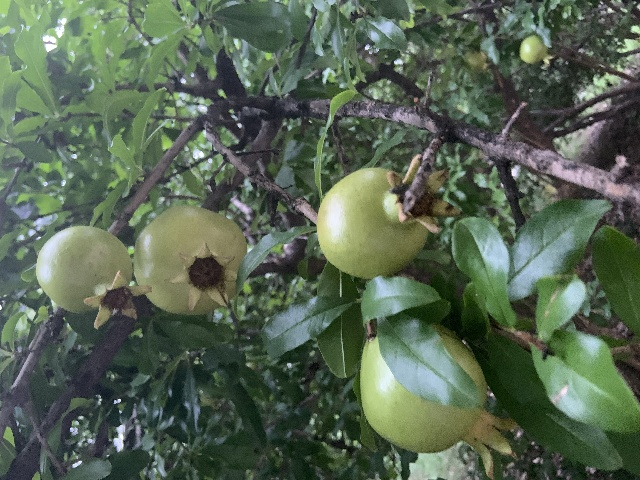mid-growth: (360, 323, 522, 478), (316, 152, 460, 279), (132, 205, 247, 315), (35, 225, 150, 328), (519, 35, 554, 65)
